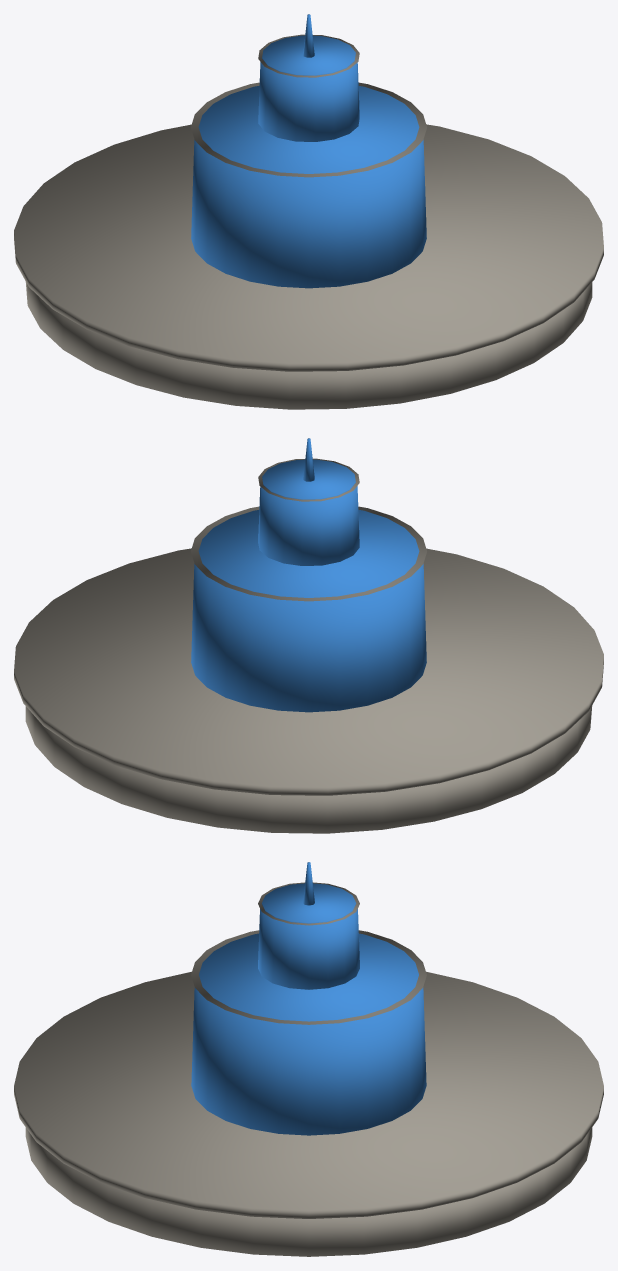
Rendered from fountain.glb.
3 views of the same model, one above another, from view 1: azimuth 30°, elevation 25°; view 2: azimuth 150°, elevation 25°; view 3: azimuth 270°, elevation 25° (orthographic).
Visible parts, largest first — view 1: fountain; view 2: fountain; view 3: fountain.
Part boxes in pixels (x1,y1,x2,y2): fountain: [14, 14, 603, 409]; fountain: [14, 438, 603, 833]; fountain: [14, 862, 603, 1256].
Size of the model in its own units: 7.5 by 3.85 by 7.5.
Materials: 1 (1 with a texture image).
